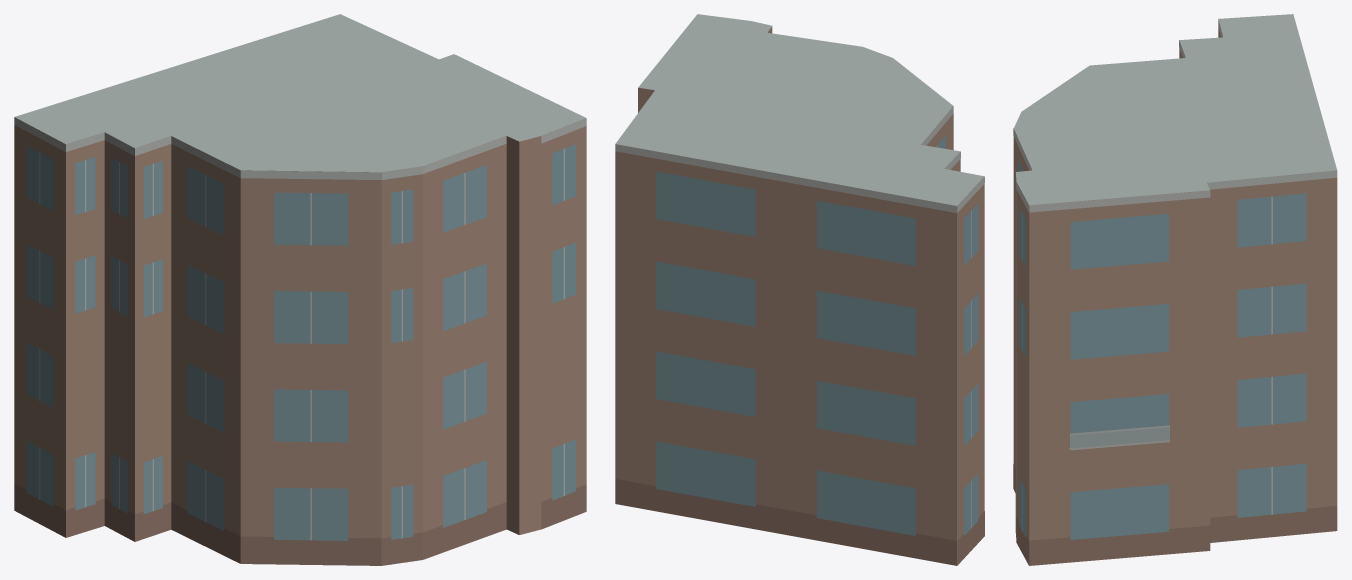
Rendered from survey-upis-32460695.glb.
3 views of the same model, side by side, from view 1: azimuth 30°, elevation 25°; view 2: azimuth 150°, elevation 25°; view 3: azimuth 270°, elevation 25° (orthographic). The views are drawn at different scales.
Parts seen in each view (by area): view 1: survey-upis-32460695.tmp; view 2: survey-upis-32460695.tmp; view 3: survey-upis-32460695.tmp.
Part boxes in pixels (<box>): survey-upis-32460695.tmp: <box>14,14,586,565</box>; survey-upis-32460695.tmp: <box>615,14,984,565</box>; survey-upis-32460695.tmp: <box>1013,14,1337,565</box>.
Size of the model in its own units: 13.9 by 12.2 by 9.94.
